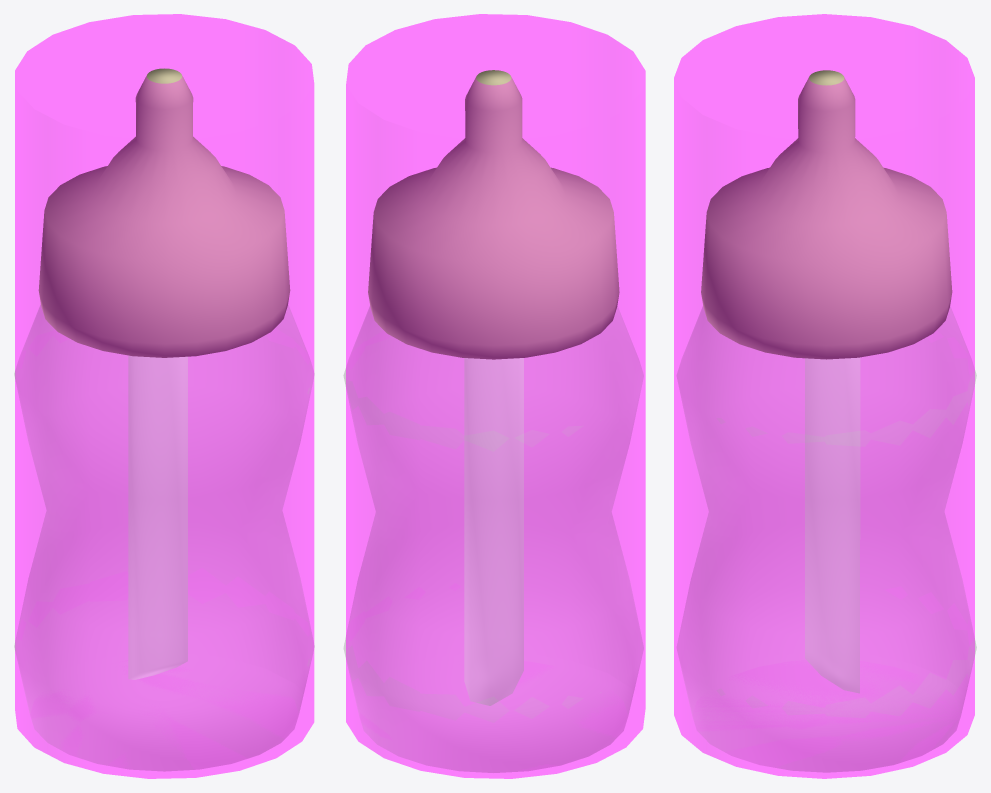
Rendered from nursingbottle.fbx.
3 renders of one model, left to right at view 1: azimuth 30°, elevation 25°; view 2: azimuth 150°, elevation 25°; view 3: azimuth 270°, elevation 25°, orthographic.
Visible parts, largest first — view 1: nursingbottle_boundingbox, nursingbottle; view 2: nursingbottle_boundingbox, nursingbottle; view 3: nursingbottle_boundingbox, nursingbottle.
Part boxes in pixels (x1,y1,x2,y2): nursingbottle_boundingbox: (15, 14, 314, 778); nursingbottle: (14, 68, 314, 771); nursingbottle_boundingbox: (346, 14, 645, 778); nursingbottle: (343, 70, 643, 772); nursingbottle_boundingbox: (674, 14, 974, 778); nursingbottle: (677, 70, 976, 772).
Size of the model in its own units: 0.0502 by 0.1172 by 0.0504.
